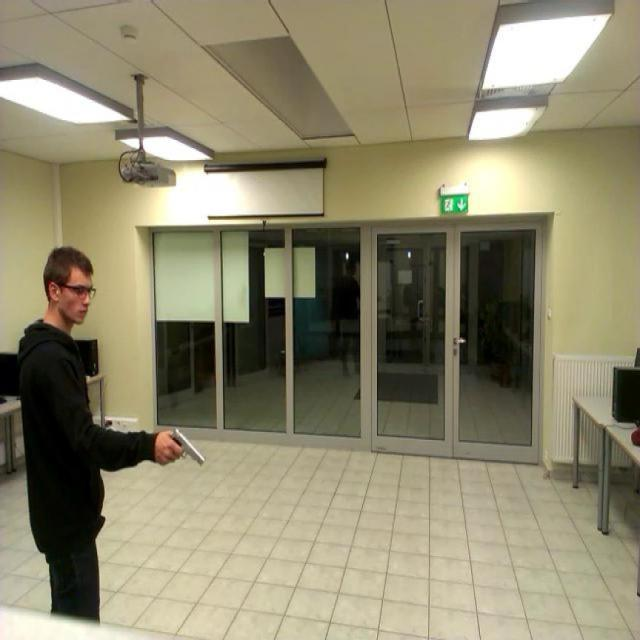pistol: (164, 427, 205, 465)
